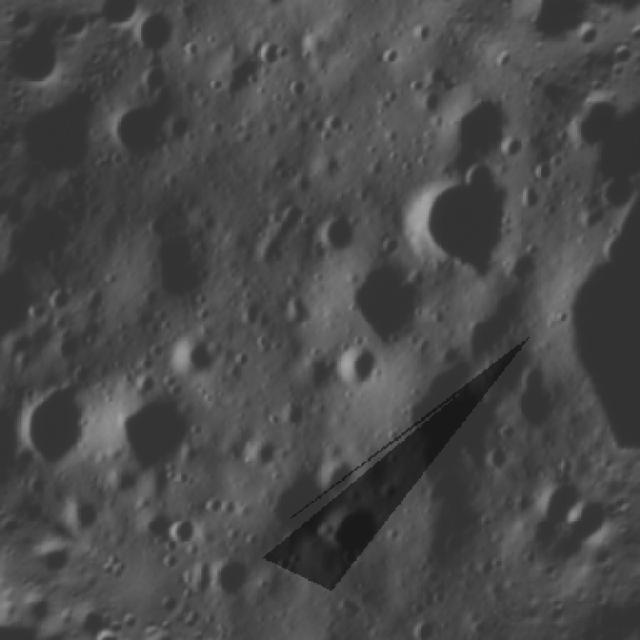crater: (394, 144, 552, 298), (324, 236, 462, 366), (109, 186, 242, 317), (426, 67, 551, 191), (95, 372, 220, 496), (0, 356, 117, 478), (90, 76, 184, 172), (493, 350, 587, 445), (312, 485, 401, 572), (0, 247, 57, 361), (292, 420, 374, 498), (521, 452, 596, 532), (162, 315, 238, 393), (322, 330, 396, 402), (196, 538, 266, 607), (577, 160, 640, 228), (125, 0, 189, 62), (312, 196, 374, 259), (56, 486, 110, 542), (152, 500, 206, 554), (562, 109, 616, 158), (250, 26, 302, 74), (405, 607, 446, 640)
